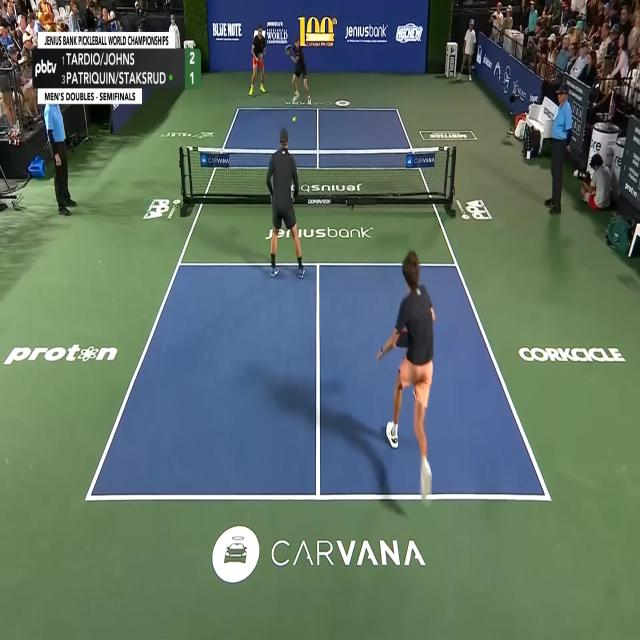ball: (292, 115, 296, 124)
